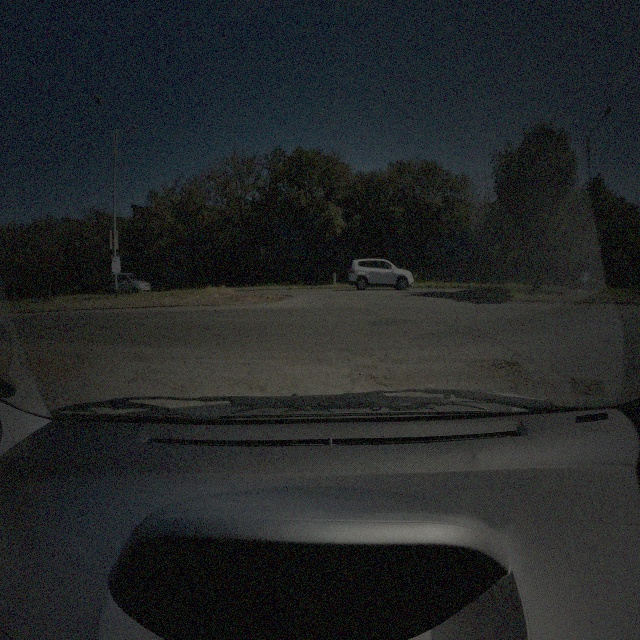pothole: (20, 356, 78, 393), (470, 356, 522, 374), (355, 363, 379, 374)
